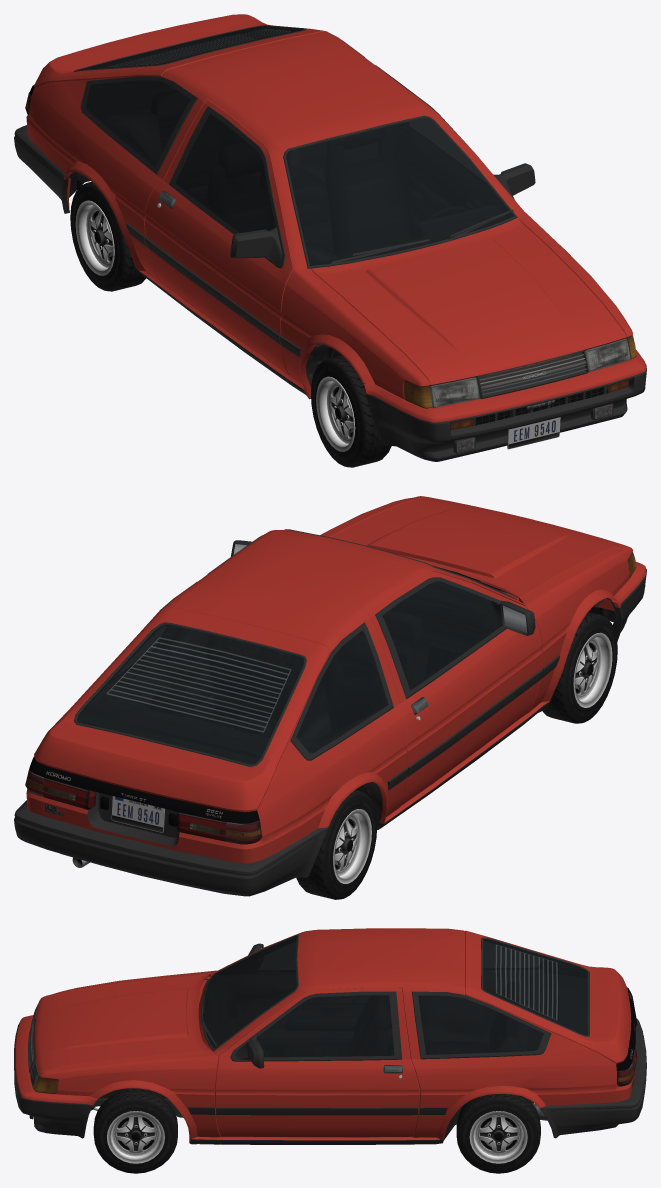
File: tiara.glb
3 renders of one model, top to bottom at view 1: azimuth 30°, elevation 25°; view 2: azimuth 150°, elevation 25°; view 3: azimuth 270°, elevation 25°, orthographic. The views are drawn at different scales.
Parts seen in each view (by area): view 1: TiaraGT83_Body_TiaraGT83_Bodymat_0, TiaraGT83_Interior_UCB_Interiors_2_0, TiaraGT83_Hood_TiaraGT83_Bodymat_0, TiaraGT83_Windshield_UCB_Lights_and_Glass_Transperent_0, TiaraGT83_Bottom_UCB_BOTTOM_0, TiaraGT83_Bumper_FrontA_inner_UCB_BOTTOM_0, TiaraGT83_Glass_Passenger_UCB_Lights_and_Glass_Transperent_0, TiaraGT83_Trunkdoor_TiaraGT83_Bodymat_0, wheel_FR, TiaraGT83_Glass_UCB_Lights_and_Glass_Transperent_0, wheel_RR, TiaraGT83_Bumper_FrontA_TiaraGT83_Bodymat_0 (+7 smaller); view 2: TiaraGT83_Body_TiaraGT83_Bodymat_0, TiaraGT83_Interior_UCB_Interiors_2_0, TiaraGT83_Trunkdoor_Glass_UCB_Lights_and_Glass_Transperent_0, TiaraGT83_Trunkdoor_TiaraGT83_Bodymat_0, TiaraGT83_Hood_TiaraGT83_Bodymat_0, TiaraGT83_Bottom_UCB_BOTTOM_0, TiaraGT83_Bumper_rearA_Trim_UCB_BOTTOM_0, TiaraGT83_Glass_Passenger_UCB_Lights_and_Glass_Transperent_0, TiaraGT83_Glass_UCB_Lights_and_Glass_Transperent_0, wheel_RR, wheel_FR, TiaraGT83_Brakelights_UCB_Lights_and_Glass_0 (+3 smaller); view 3: TiaraGT83_Body_TiaraGT83_Bodymat_0, TiaraGT83_Interior_UCB_Interiors_2_0, TiaraGT83_Hood_TiaraGT83_Bodymat_0, TiaraGT83_Bottom_UCB_BOTTOM_0, TiaraGT83_Glass_Driver_UCB_Lights_and_Glass_Transperent_0, TiaraGT83_Glass_UCB_Lights_and_Glass_Transperent_0, TiaraGT83_Trunkdoor_Glass_UCB_Lights_and_Glass_Transperent_0, TiaraGT83_Trunkdoor_TiaraGT83_Bodymat_0, TiaraGT83_Windshield_UCB_Lights_and_Glass_Transperent_0, wheel_FL, wheel_RL, TiaraGT83_Bumper_rearA_Trim_UCB_BOTTOM_0 (+6 smaller).
Boxes of the visible parts, <box> form: TiaraGT83_Body_TiaraGT83_Bodymat_0: <box>26,31,632,399</box>; TiaraGT83_Interior_UCB_Interiors_2_0: <box>86,31,512,265</box>; TiaraGT83_Hood_TiaraGT83_Bodymat_0: <box>311,218,626,384</box>; TiaraGT83_Windshield_UCB_Lights_and_Glass_Transperent_0: <box>286,118,513,265</box>; TiaraGT83_Bottom_UCB_BOTTOM_0: <box>29,40,626,399</box>; TiaraGT83_Bumper_FrontA_inner_UCB_BOTTOM_0: <box>366,364,646,461</box>; TiaraGT83_Glass_Passenger_UCB_Lights_and_Glass_Transperent_0: <box>175,114,275,232</box>; TiaraGT83_Trunkdoor_TiaraGT83_Bodymat_0: <box>34,14,327,87</box>; wheel_FR: <box>311,355,391,467</box>; TiaraGT83_Glass_UCB_Lights_and_Glass_Transperent_0: <box>86,80,190,166</box>; wheel_RR: <box>70,181,146,291</box>; TiaraGT83_Bumper_FrontA_TiaraGT83_Bodymat_0: <box>363,350,646,422</box>; TiaraGT83_Body_TiaraGT83_Bodymat_0: <box>26,496,632,863</box>; TiaraGT83_Interior_UCB_Interiors_2_0: <box>78,582,502,763</box>; TiaraGT83_Trunkdoor_Glass_UCB_Lights_and_Glass_Transperent_0: <box>77,624,303,764</box>; TiaraGT83_Trunkdoor_TiaraGT83_Bodymat_0: <box>34,607,331,812</box>; TiaraGT83_Hood_TiaraGT83_Bodymat_0: <box>330,497,623,598</box>; TiaraGT83_Bottom_UCB_BOTTOM_0: <box>29,529,610,867</box>; TiaraGT83_Bumper_rearA_Trim_UCB_BOTTOM_0: <box>14,800,328,896</box>; TiaraGT83_Glass_Passenger_UCB_Lights_and_Glass_Transperent_0: <box>382,581,502,690</box>; TiaraGT83_Glass_UCB_Lights_and_Glass_Transperent_0: <box>112,626,388,753</box>; wheel_RR: <box>296,790,377,899</box>; wheel_FR: <box>542,612,617,723</box>; TiaraGT83_Brakelights_UCB_Lights_and_Glass_0: <box>25,767,262,844</box>; TiaraGT83_Body_TiaraGT83_Bodymat_0: <box>34,928,634,1142</box>; TiaraGT83_Interior_UCB_Interiors_2_0: <box>203,937,586,1056</box>; TiaraGT83_Hood_TiaraGT83_Bodymat_0: <box>34,974,210,1073</box>; TiaraGT83_Bottom_UCB_BOTTOM_0: <box>28,935,635,1144</box>; TiaraGT83_Glass_Driver_UCB_Lights_and_Glass_Transperent_0: <box>256,995,394,1057</box>; TiaraGT83_Glass_UCB_Lights_and_Glass_Transperent_0: <box>418,942,546,1054</box>; TiaraGT83_Trunkdoor_Glass_UCB_Lights_and_Glass_Transperent_0: <box>483,939,587,1035</box>; TiaraGT83_Trunkdoor_TiaraGT83_Bodymat_0: <box>465,930,631,1063</box>; TiaraGT83_Windshield_UCB_Lights_and_Glass_Transperent_0: <box>203,936,296,1048</box>; wheel_FL: <box>93,1088,177,1173</box>; wheel_RL: <box>456,1094,540,1173</box>; TiaraGT83_Bumper_rearA_Trim_UCB_BOTTOM_0: <box>539,1018,646,1138</box>.
Bounding box in the file's own units: 1.81 × 1.32 × 4.35.
8 materials, 7 textured.
